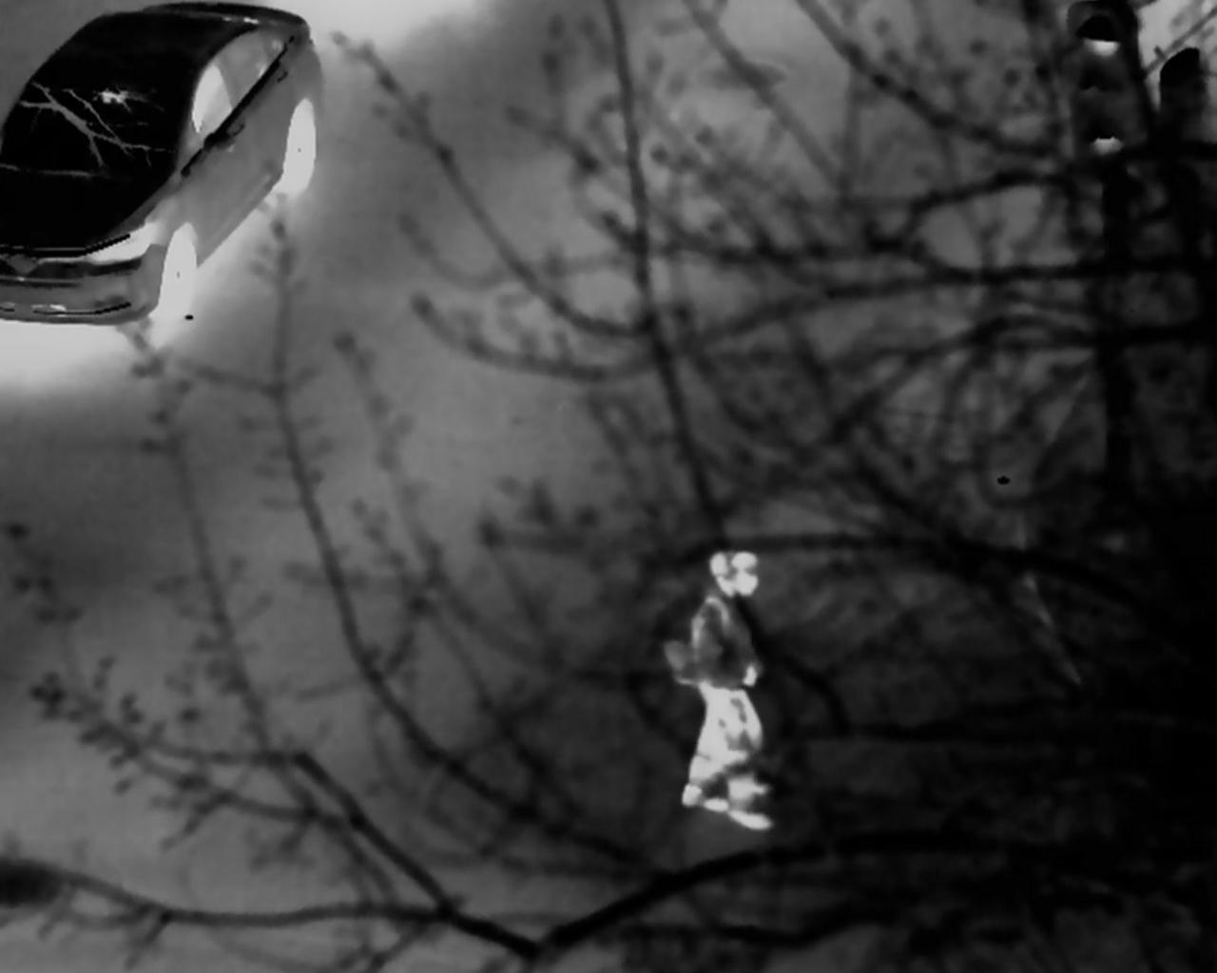person: (686, 546, 773, 826)
